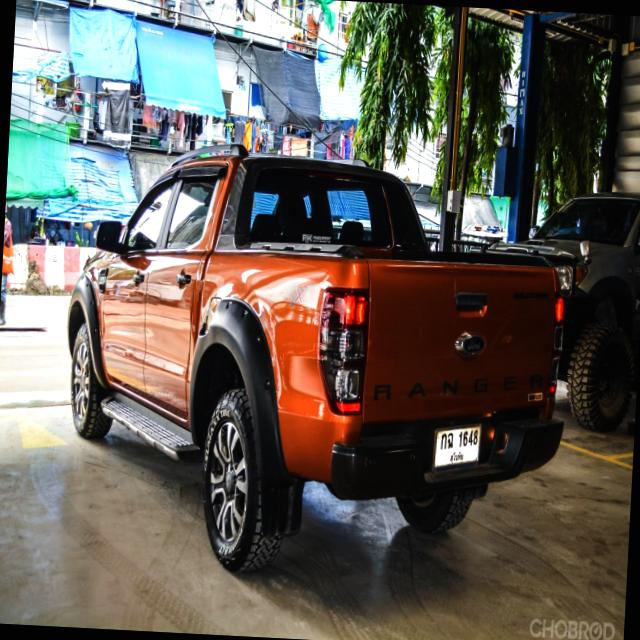license_plate: (432, 423, 484, 470)
